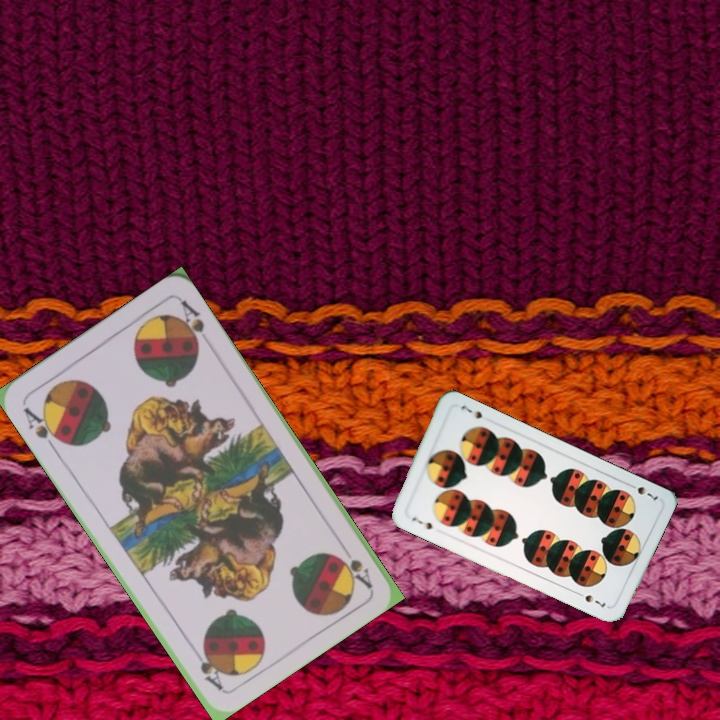S7: (623, 479, 661, 503), (408, 513, 436, 532)
SA: (19, 403, 66, 453), (336, 538, 375, 591)
